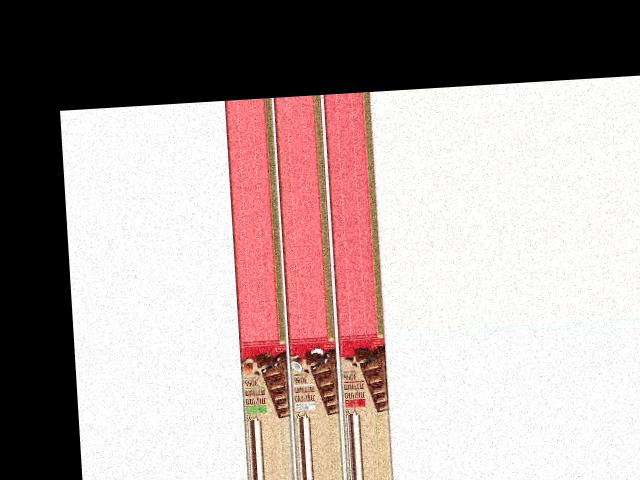chocolate: (237, 338, 289, 421)
